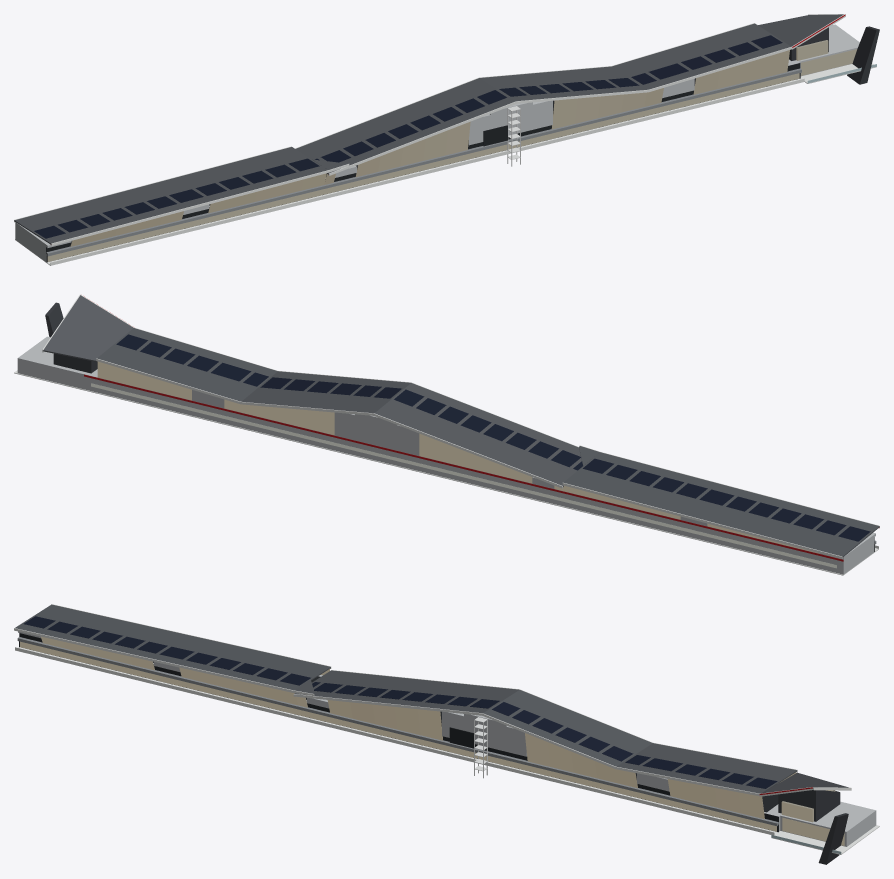
The model's file is sil_wing_upper.glb.
3 renders of one model, top to bottom at view 1: azimuth 30°, elevation 25°; view 2: azimuth 150°, elevation 25°; view 3: azimuth 330°, elevation 25°, orthographic.
Parts seen in each view (by area): view 1: silverstone-wing; view 2: silverstone-wing; view 3: silverstone-wing.
Part boxes in pixels (x1,y1,x2,y2): silverstone-wing: (14, 14, 879, 265); silverstone-wing: (14, 294, 879, 575); silverstone-wing: (14, 604, 879, 864).
Size of the model in its own units: 373 by 30.15 by 33.5.
